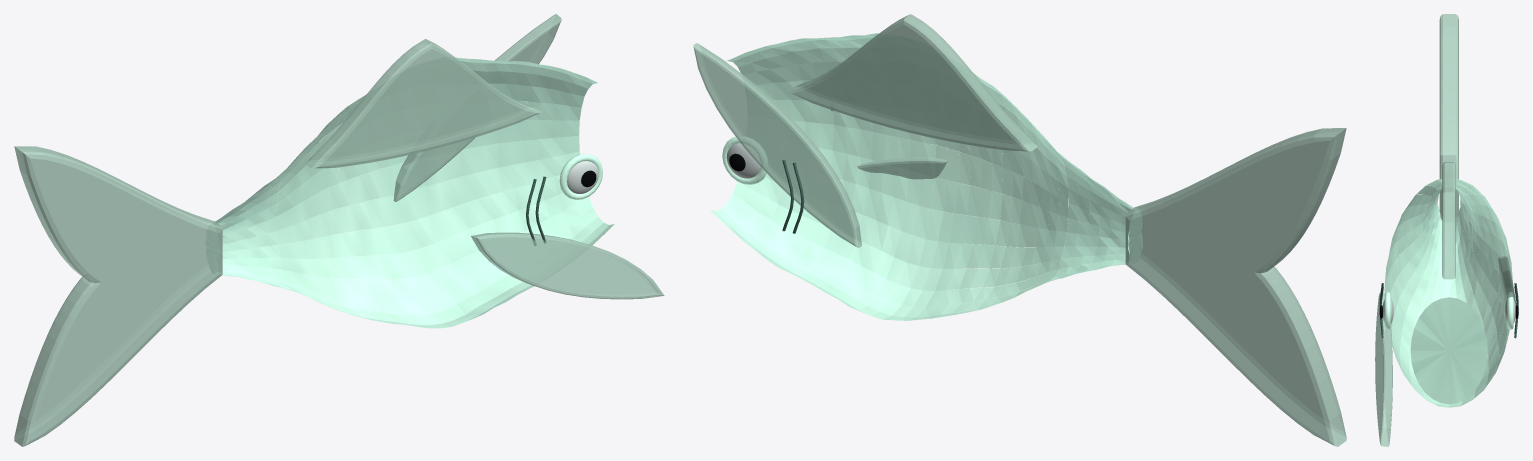
File: glass-bream.glb
3 renders of one model, left to right at view 1: azimuth 30°, elevation 25°; view 2: azimuth 150°, elevation 25°; view 3: azimuth 270°, elevation 25°, orthographic. The views are drawn at different scales.
Parts seen in each view (by area): view 1: body, tail_fin, dorsal_fin, pectoral_fin (×2), eye_socket, eye; view 2: body, tail_fin, dorsal_fin, pectoral_fin (×2), eye_socket, eye; view 3: body, tail_fin, pectoral_fin (×2), dorsal_fin, eye_socket (×2).
Part boxes in pixels (x1,y1,x2,y2): body: (206, 57, 614, 328); tail_fin: (14, 146, 222, 446); dorsal_fin: (306, 39, 540, 168); pectoral_fin (×2): (393, 14, 664, 299); eye_socket: (559, 154, 602, 199); eye: (567, 161, 598, 193); body: (710, 33, 1142, 320); tail_fin: (1125, 128, 1346, 446); dorsal_fin: (788, 14, 1037, 151); pectoral_fin (×2): (693, 43, 947, 247); eye_socket: (722, 136, 768, 184); eye: (726, 143, 760, 178); body: (1384, 178, 1512, 407); tail_fin: (1439, 14, 1458, 221); pectoral_fin (×2): (1375, 256, 1516, 446); dorsal_fin: (1442, 162, 1455, 279); eye_socket (×2): (1384, 291, 1513, 329).
Bounding box in the file's own units: 2.8 × 1.35 × 0.7446.
